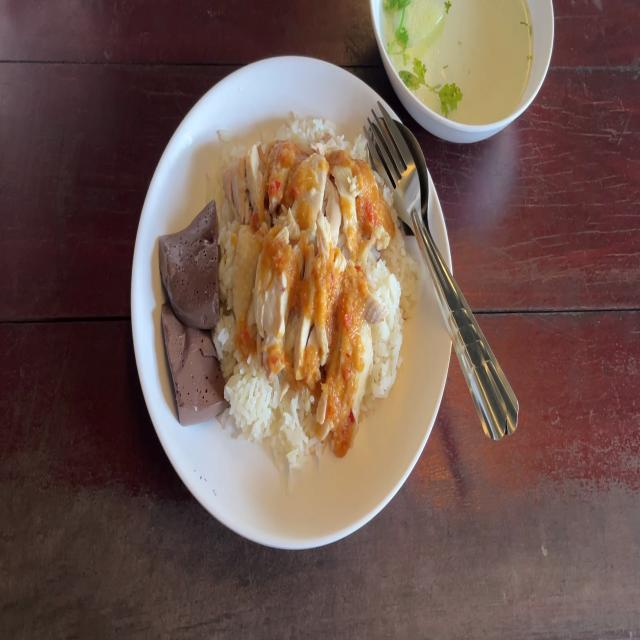boiled_chicken: (228, 138, 377, 390)
boiled_chicken_blood_jelly: (155, 204, 219, 331), (158, 300, 218, 420)
chicken_rice: (168, 109, 402, 447)
